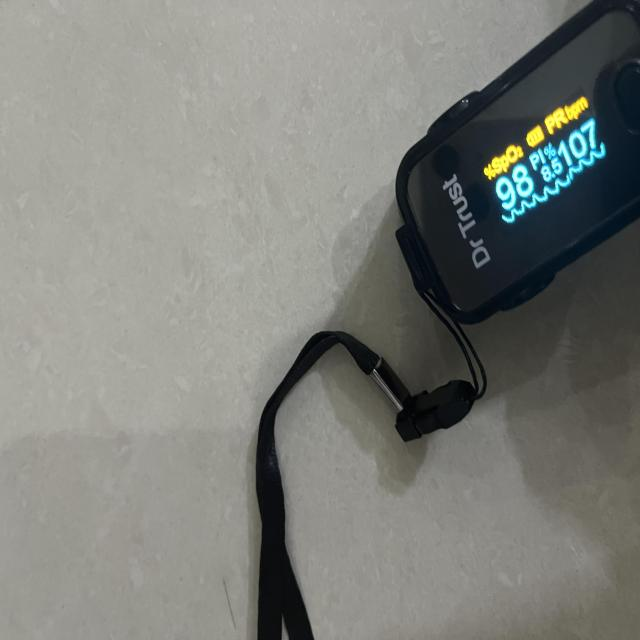spo2: (394, 0, 640, 326)
